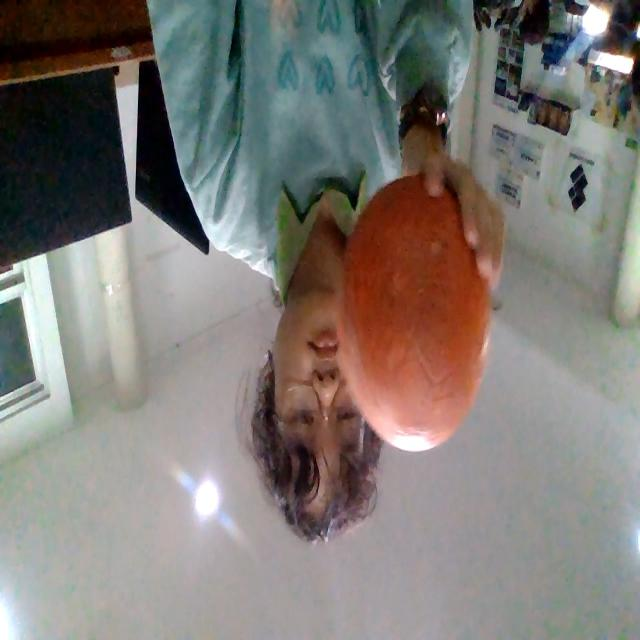ball: (344, 188, 483, 446)
